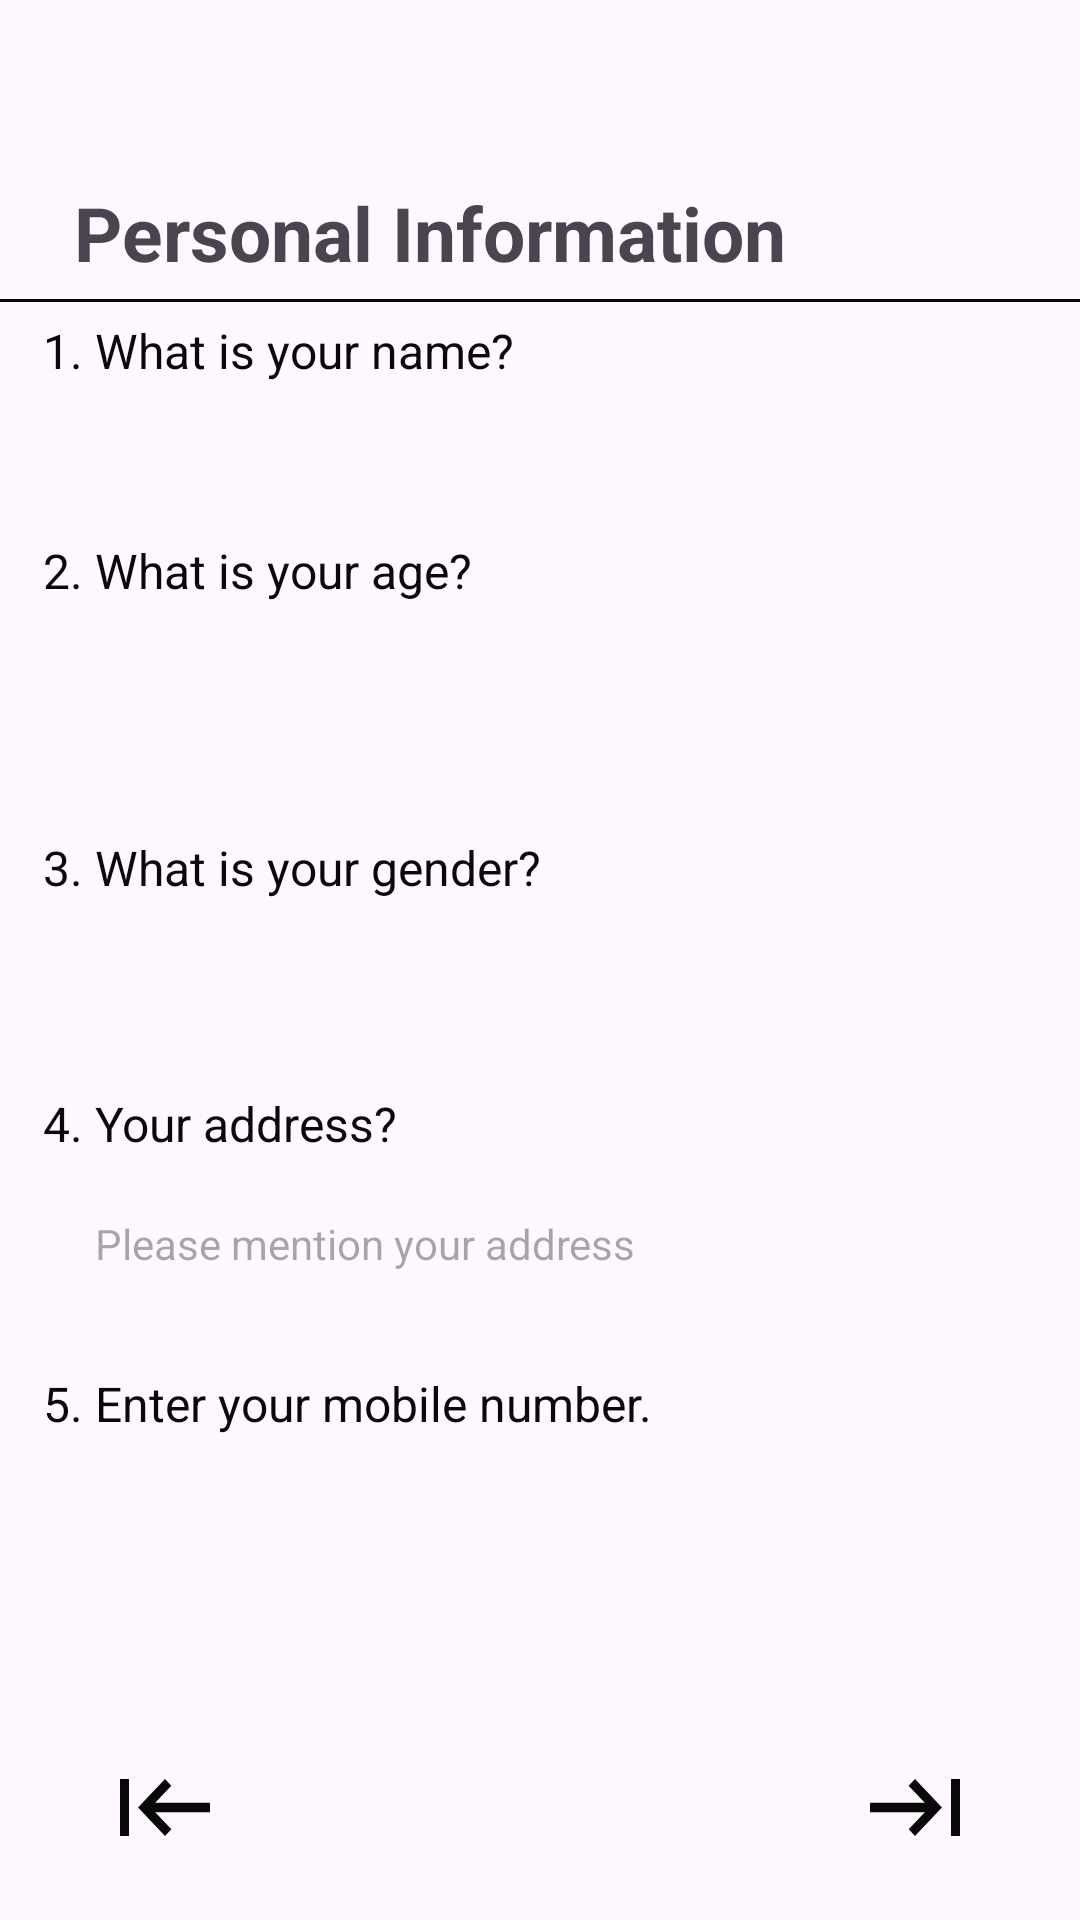

Icon click points for this 1080×1920 phone screenshot, format [x,y]:
back: [165,1807]
next: [915,1807]
